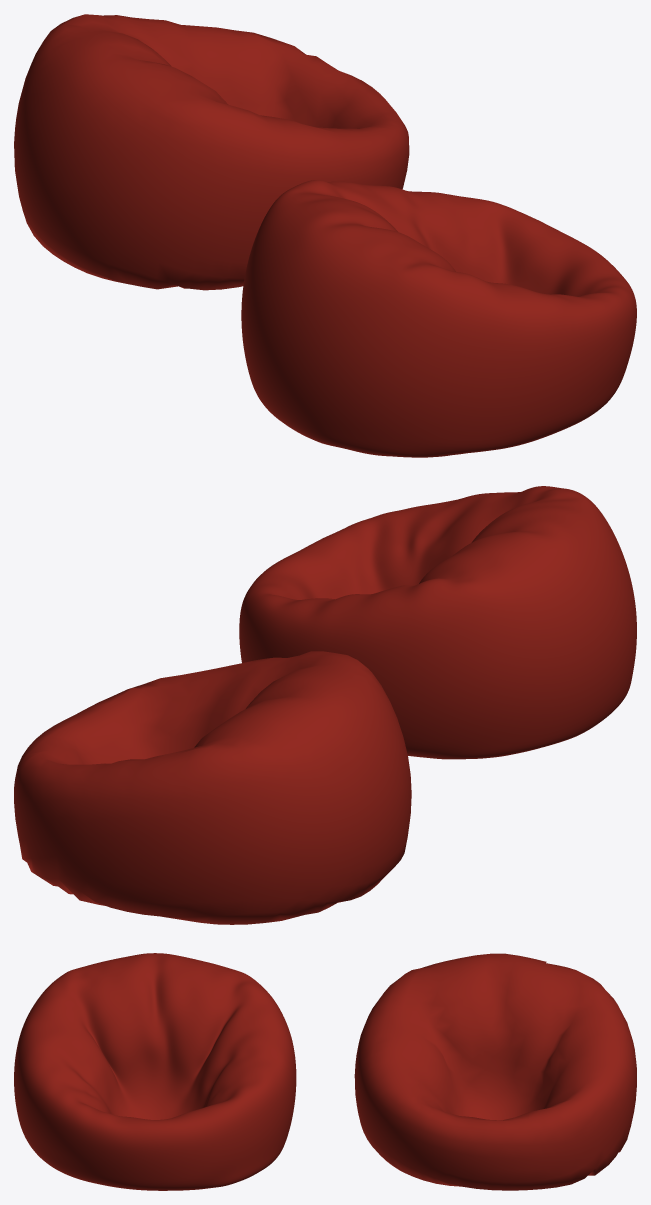
The picture shows the model from 3 angles, top to bottom: view 1: azimuth 30°, elevation 25°; view 2: azimuth 150°, elevation 25°; view 3: azimuth 270°, elevation 25°; orthographic projection. The views are drawn at different scales.
Visible parts, largest first — view 1: bean bag high poly, bean bag low poly; view 2: bean bag low poly, bean bag high poly; view 3: bean bag high poly, bean bag low poly.
Boxes of the visible parts, left/top/right/bottom form: bean bag high poly: left=241, top=180, right=636, bottom=457; bean bag low poly: left=14, top=14, right=409, bottom=290; bean bag low poly: left=14, top=651, right=411, bottom=924; bean bag high poly: left=239, top=486, right=636, bottom=759; bean bag high poly: left=14, top=953, right=296, bottom=1190; bean bag low poly: left=354, top=953, right=636, bottom=1190.
Size of the model in its own units: 510 by 265 by 1061.
